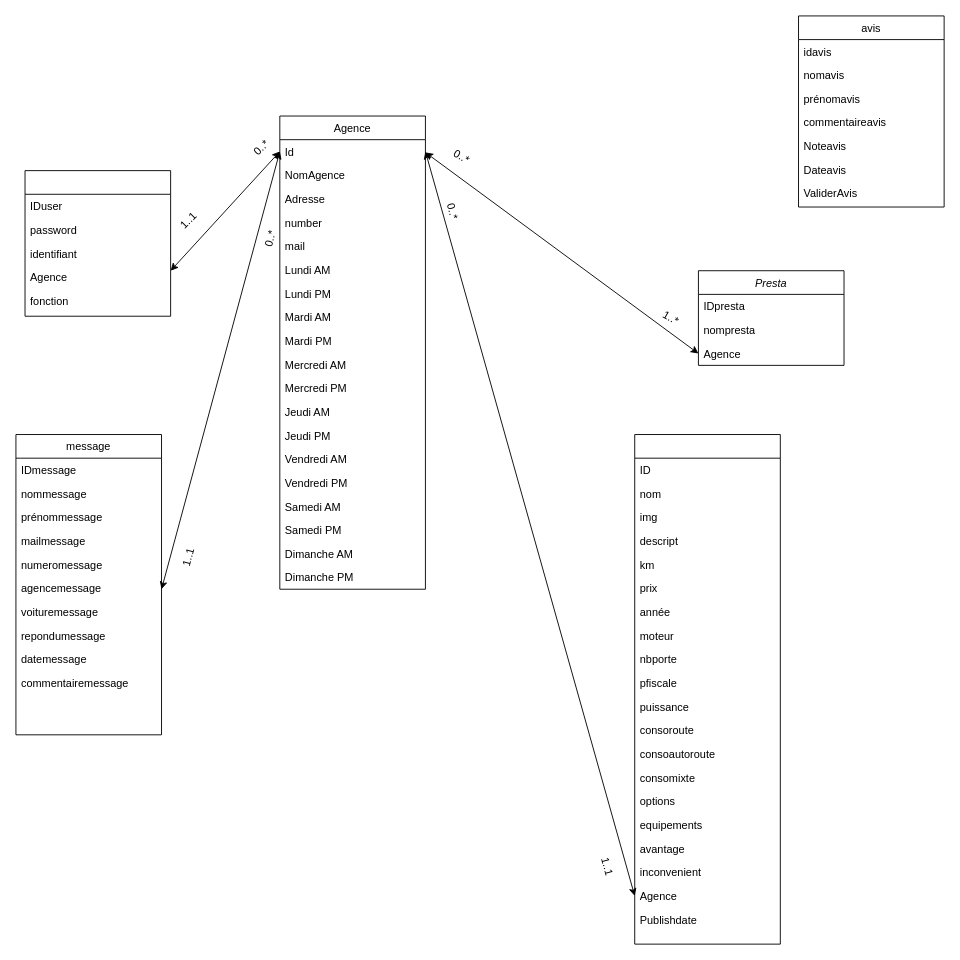
This 960x960 diagram has some shape labels left out. Each missing label, with the box of its shape:
Users: (24, 170, 171, 316)
Voiture: (634, 434, 780, 944)
